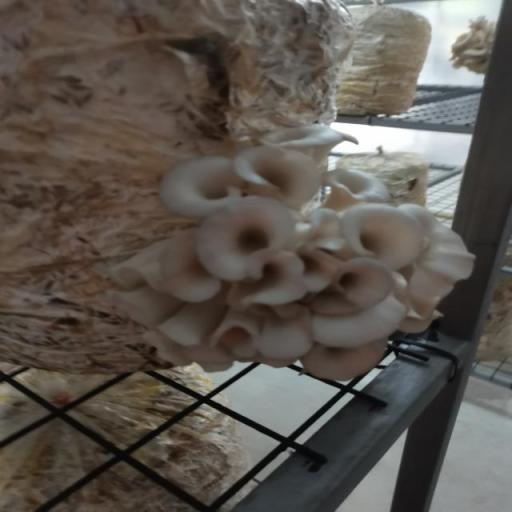White Oyster Mushroom: (87, 113, 494, 394)
